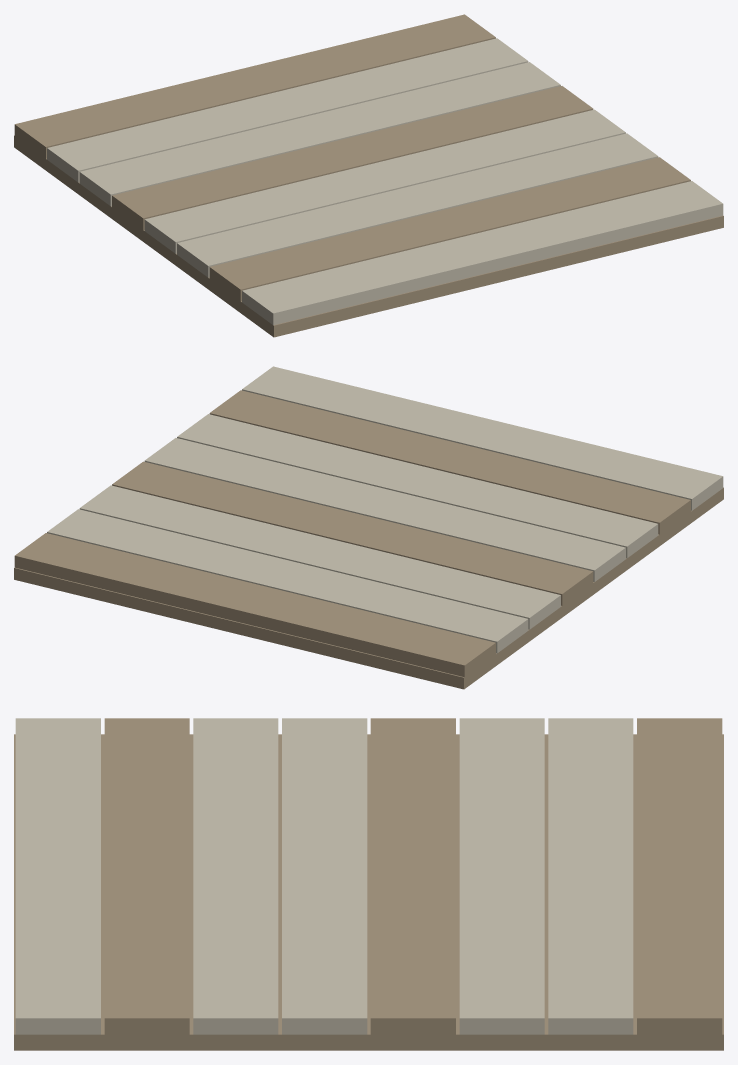
File: FloorWalk__Deck.fbx
3 renders of one model, top to bottom at view 1: azimuth 30°, elevation 25°; view 2: azimuth 150°, elevation 25°; view 3: azimuth 270°, elevation 25°, orthographic. The views are drawn at different scales.
Visible parts, largest first — view 1: FloorWalk__Deck; view 2: FloorWalk__Deck; view 3: FloorWalk__Deck.
Part boxes in pixels (<box>): FloorWalk__Deck: <box>14,14,723,337</box>; FloorWalk__Deck: <box>14,366,723,689</box>; FloorWalk__Deck: <box>14,718,723,1050</box>.
Size of the model in its own units: 400 by 20 by 400.
Materials: 1 (1 with a texture image).
